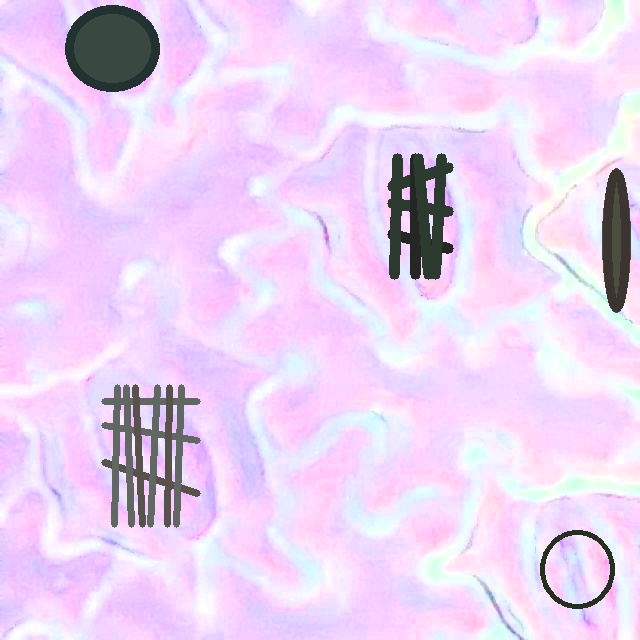open: (101, 384, 200, 527), (387, 153, 453, 278), (65, 6, 159, 91), (539, 528, 615, 610), (602, 167, 629, 312)
